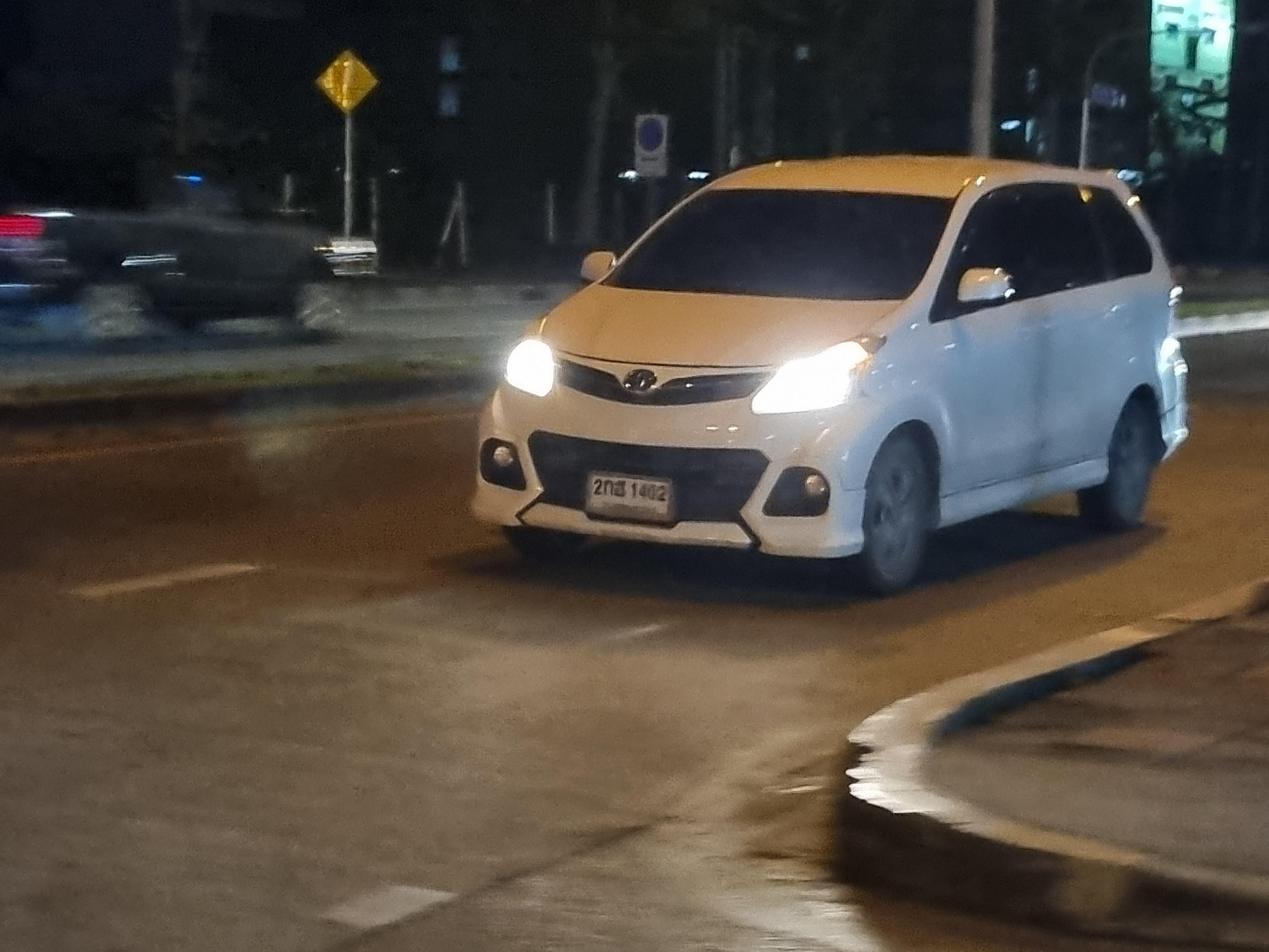license-plate: (579, 474, 678, 518)
